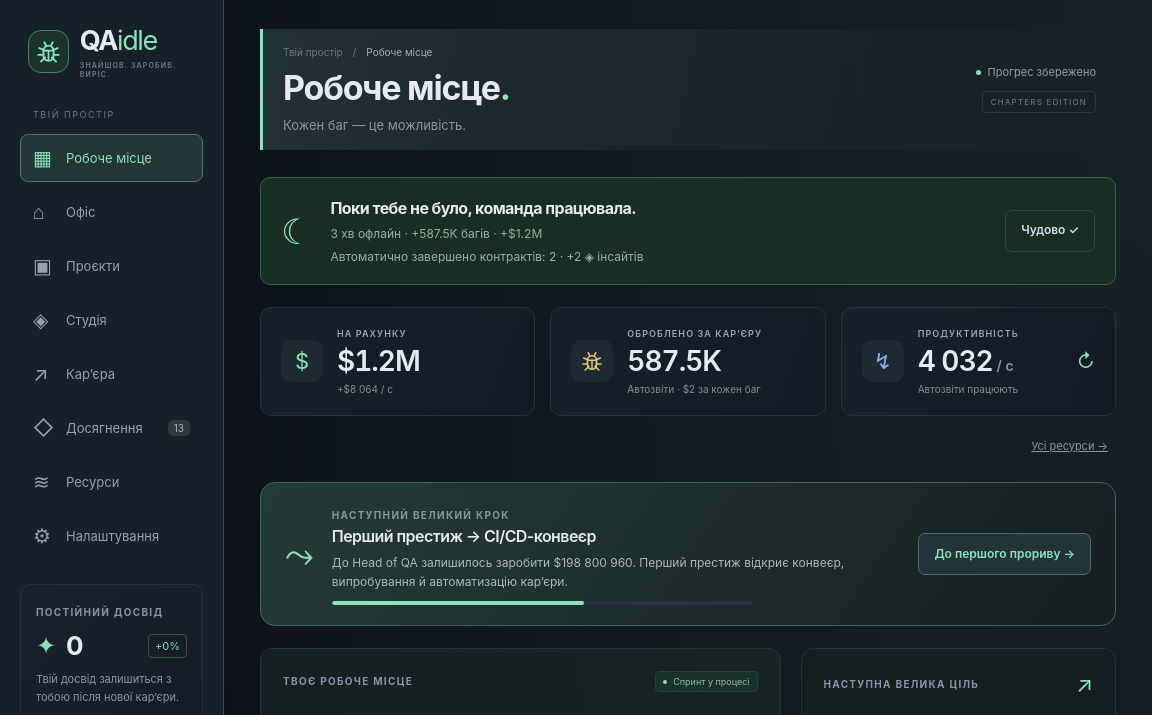
shows automatic offline earnings and retains the headquarters after prestige
Click the button "⌂ Офіс" at (112, 212), box [20,188,203,236]
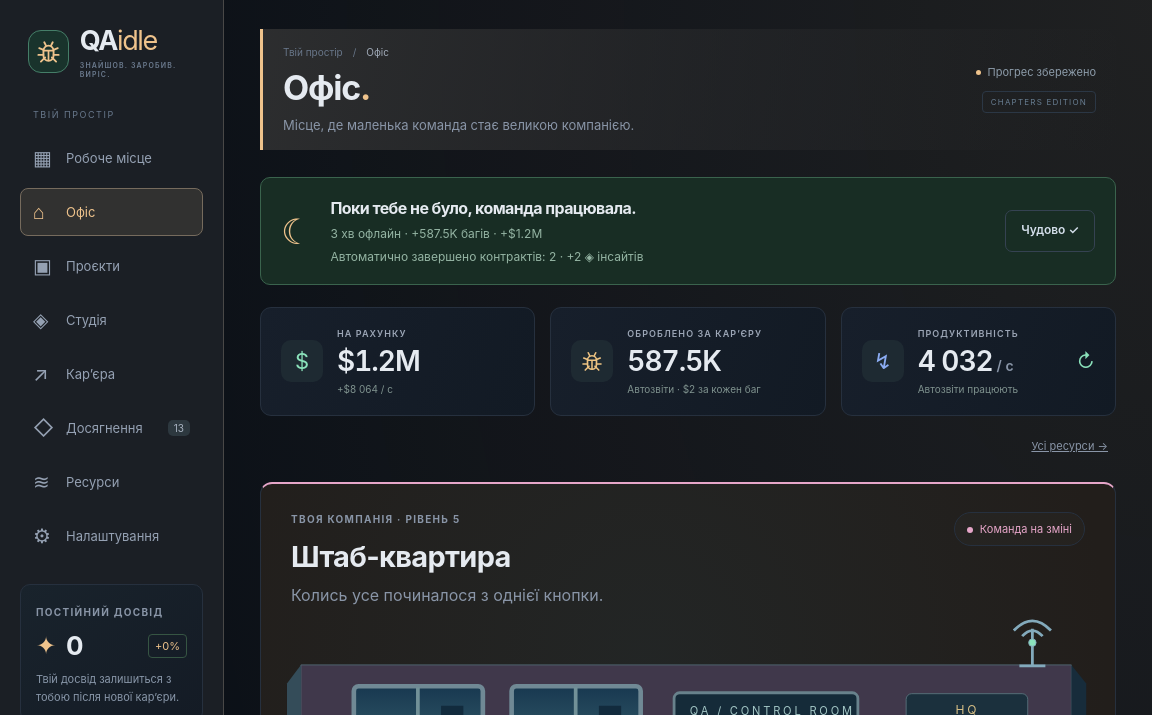
Expected: the element named "Повернення до гри" shows "Автоматично завершено контрактів: 2", [260,177,1116,285]
Result: the heading "Штаб-квартира" is shown at [291,539,511,574]
